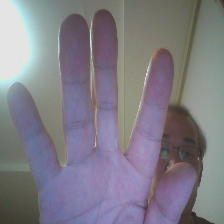hand: (11, 17, 195, 221)
